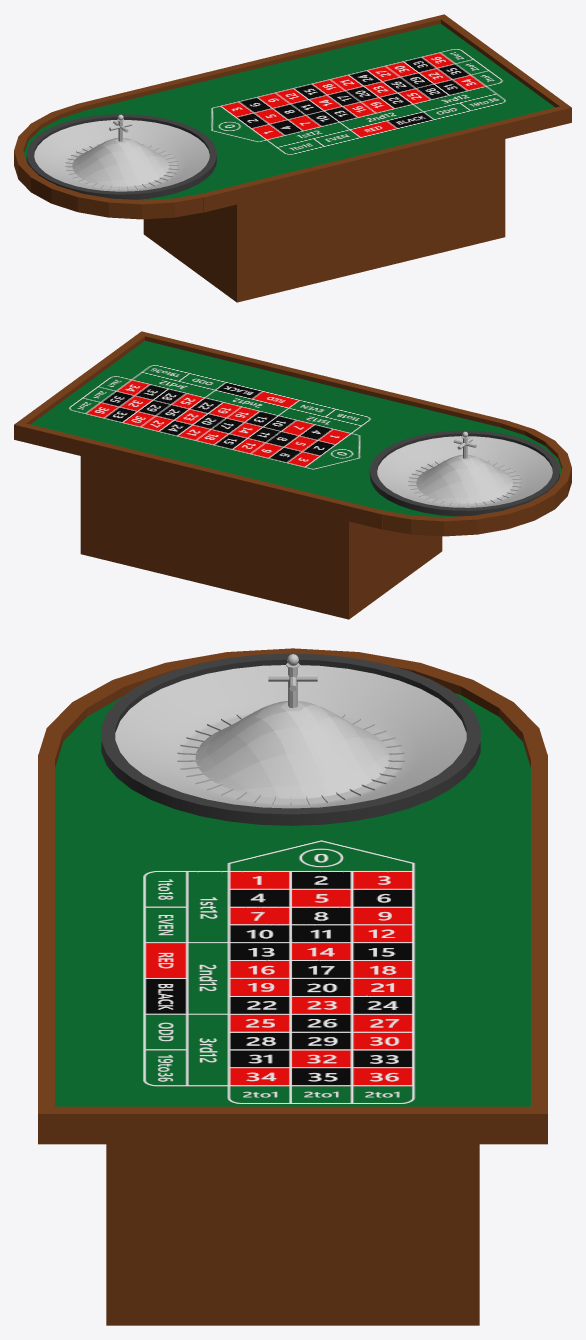
Rendered from roulette table.fbx.
3 renders of one model, top to bottom at view 1: azimuth 30°, elevation 25°; view 2: azimuth 150°, elevation 25°; view 3: azimuth 270°, elevation 25°, orthographic. The views are drawn at different scales.
Parts seen in each view (by area): view 1: roulette_table, inner_spinner, outer_spinner; view 2: roulette_table, inner_spinner, outer_spinner; view 3: roulette_table, inner_spinner, outer_spinner.
Part boxes in pixels (bbox=[...]): roulette_table: bbox=[14, 14, 571, 302]; inner_spinner: bbox=[34, 114, 209, 191]; outer_spinner: bbox=[26, 114, 216, 199]; roulette_table: bbox=[14, 331, 571, 619]; inner_spinner: bbox=[377, 431, 552, 507]; outer_spinner: bbox=[369, 430, 559, 516]; roulette_table: bbox=[38, 648, 547, 1325]; inner_spinner: bbox=[115, 654, 466, 808]; outer_spinner: bbox=[101, 653, 480, 825].
Size of the model in its own units: 130 by 44.27 by 60.
